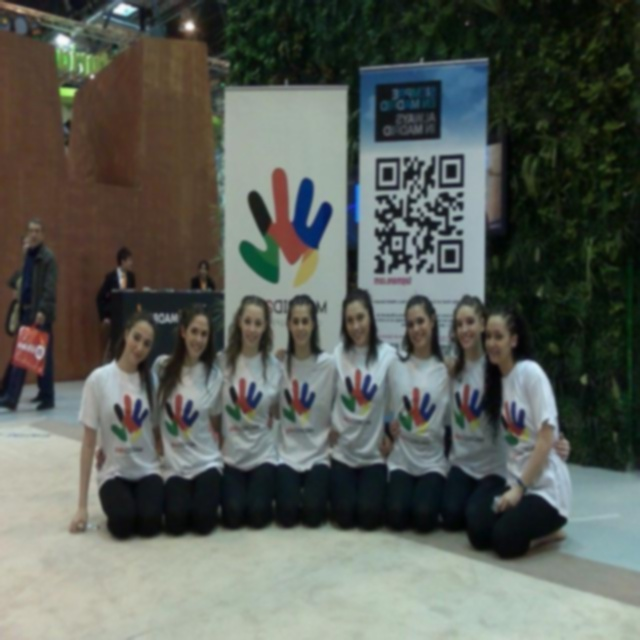qr-code: (375, 154, 464, 272)
